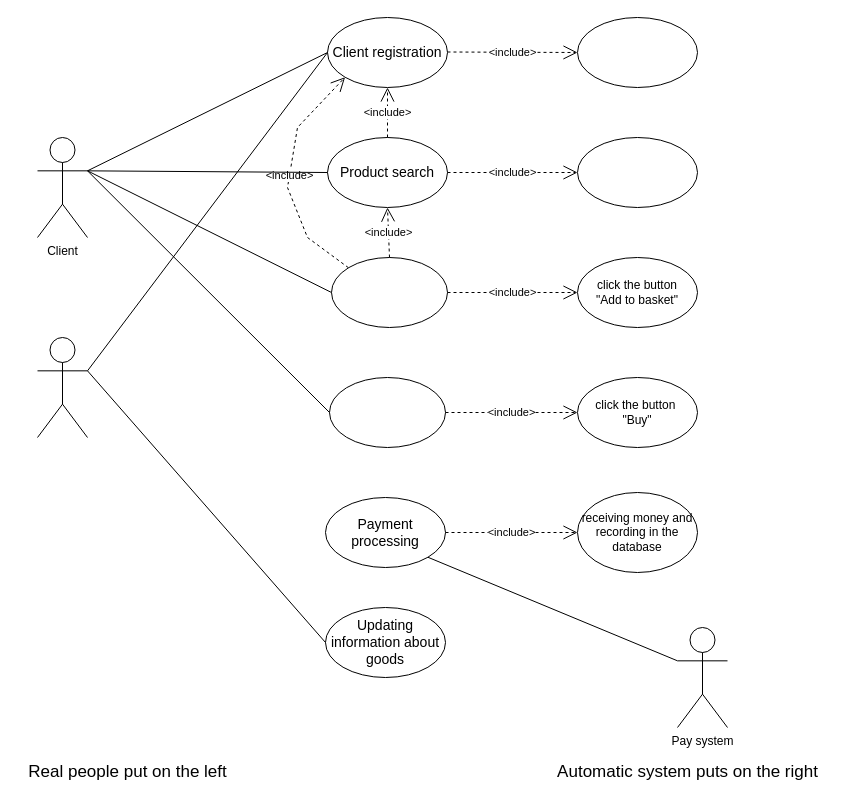
This 844x805 diagram has some shape labels left out. Each missing label, with the centre of its shape:
"Adding a product to basket" goes at pixel 389 292.
"Administrator" goes at pixel 62 387.
"Client datas" goes at pixel 637 52.
"Name, price, product ID" goes at pixel 637 172.
"Placing an order" goes at pixel 387 412.
